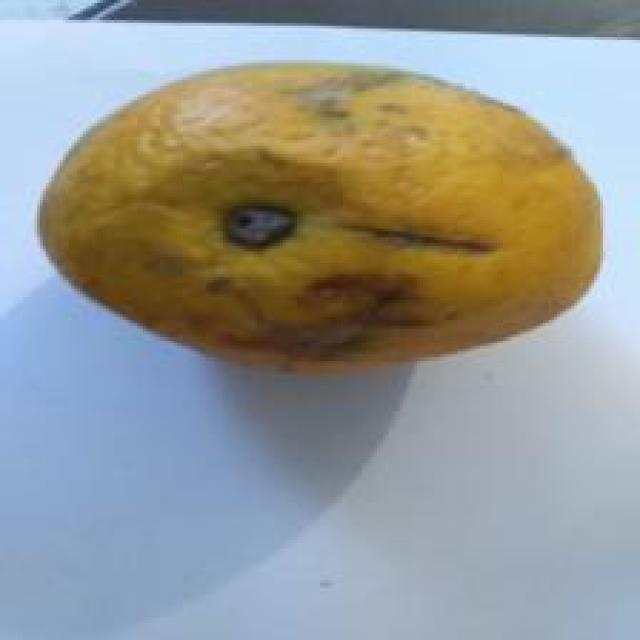overripe: (32, 46, 607, 378)
